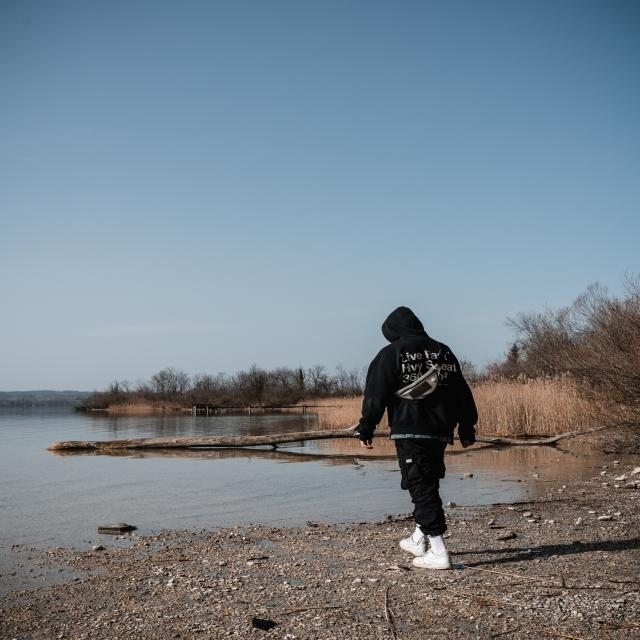standing: (348, 304, 486, 572)
